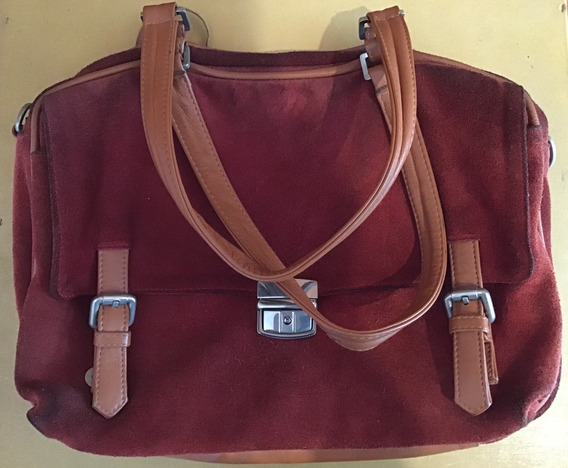cartera: (11, 2, 564, 462)
